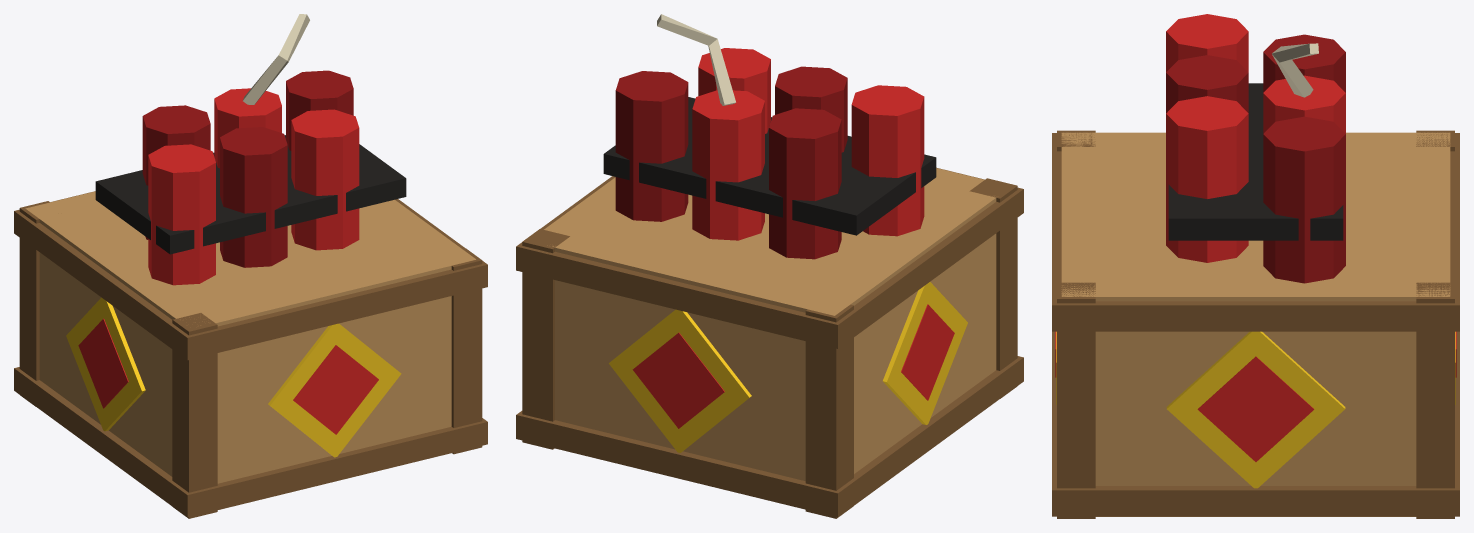
Rendered from p_tnt.glb.
3 views of the same model, side by side, from view 1: azimuth 30°, elevation 25°; view 2: azimuth 150°, elevation 25°; view 3: azimuth 270°, elevation 25° (orthographic). The views are drawn at different scales.
Visible parts, largest first — view 1: tnt; view 2: tnt; view 3: tnt.
Part boxes in pixels (left/top/right/bottom): tnt: left=14, top=14, right=487, bottom=518; tnt: left=516, top=14, right=1023, bottom=518; tnt: left=1052, top=14, right=1459, bottom=518.
Bounding box in the file's own units: 0.84 × 0.9914 × 0.84.
